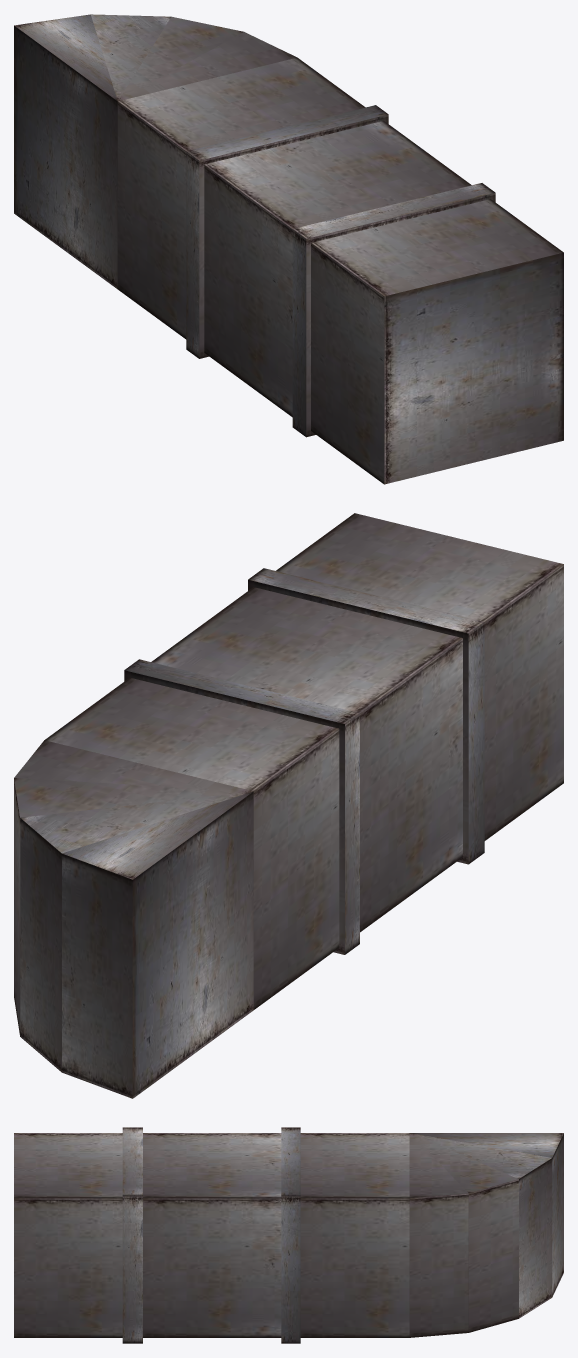
The model's file is ventilation2.fbx.
3 views of the same model, one above another, from view 1: azimuth 30°, elevation 25°; view 2: azimuth 150°, elevation 25°; view 3: azimuth 270°, elevation 25° (orthographic). The views are drawn at different scales.
Visible parts, largest first — view 1: Ventilation2; view 2: Ventilation2; view 3: Ventilation2.
Part boxes in pixels (box(x1,y1,x2,y2)): Ventilation2: box(14, 14, 563, 484); Ventilation2: box(14, 513, 563, 1098); Ventilation2: box(14, 1127, 563, 1343).
Bounding box in the file's own units: 90.49 × 90.49 × 306.
Materials: 1 (1 with a texture image).
